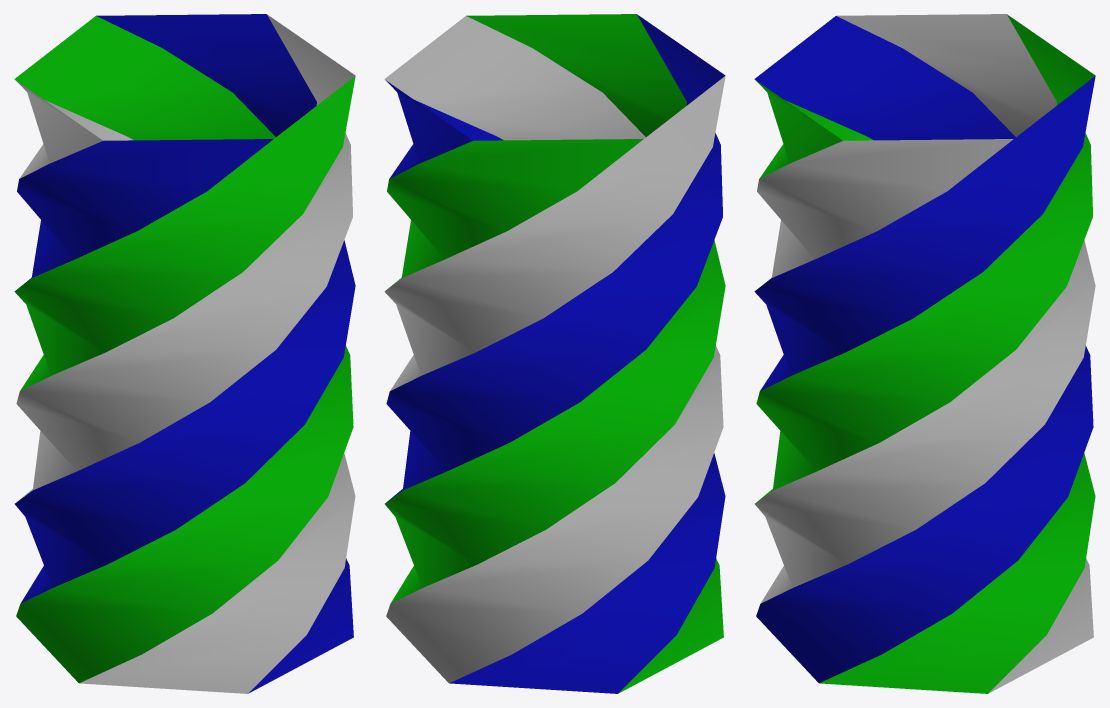
File: PrismHex.fbx
The picture shows the model from 3 angles, left to right: view 1: azimuth 30°, elevation 25°; view 2: azimuth 150°, elevation 25°; view 3: azimuth 270°, elevation 25°; orthographic projection.
Visible parts, largest first — view 1: Prism; view 2: Prism; view 3: Prism.
Part boxes in pixels (box(x1,y1,x2,y2)): Prism: box(14, 14, 355, 693); Prism: box(384, 14, 725, 693); Prism: box(754, 14, 1095, 693).
Size of the model in its own units: 200 by 355 by 200.
